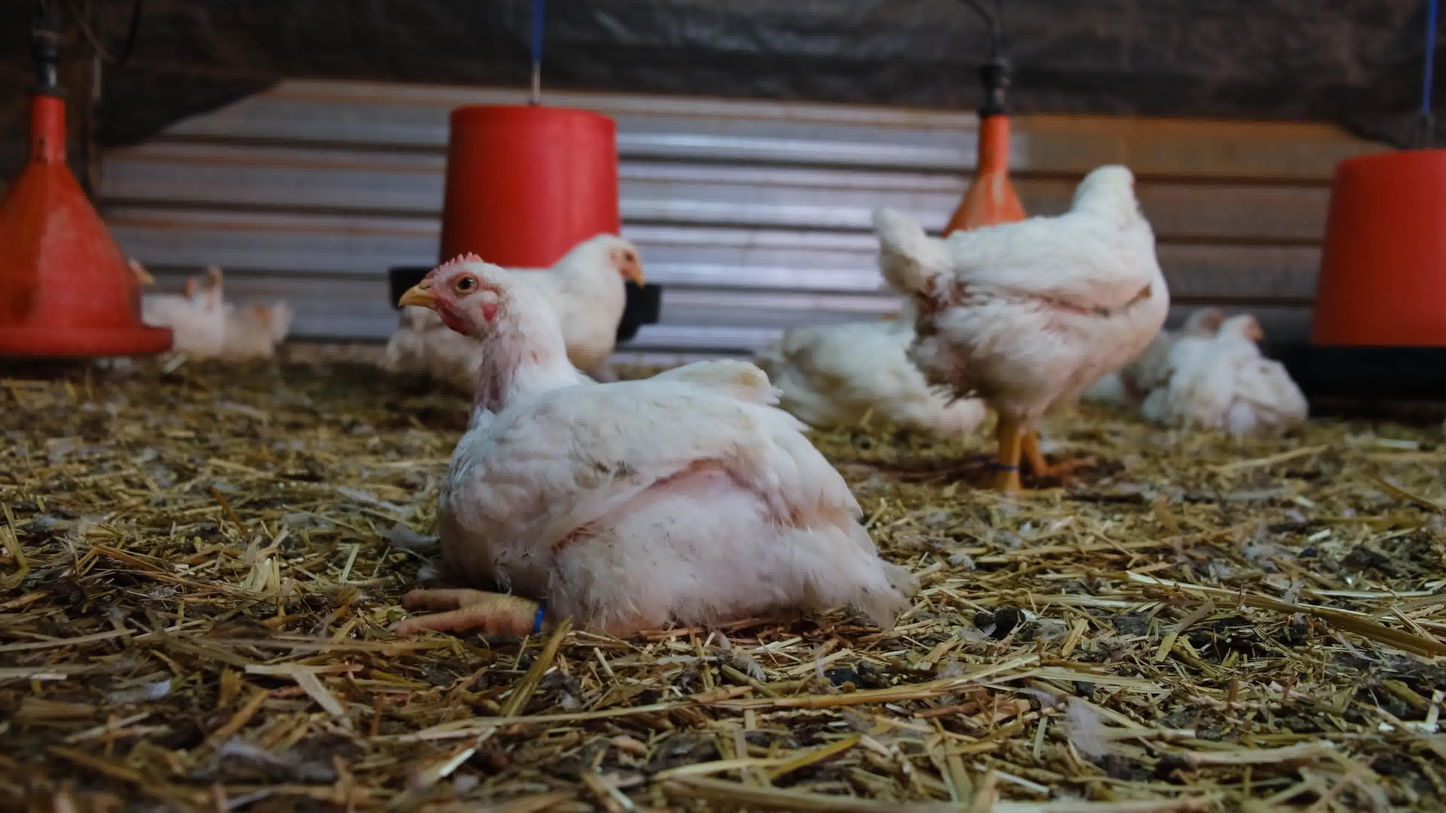AbNormal: (388, 254, 923, 634), (761, 301, 1009, 438), (1177, 316, 1322, 450), (1145, 288, 1237, 403), (237, 295, 318, 373)
Normal: (859, 154, 1171, 489), (407, 220, 659, 397), (136, 260, 258, 361)
